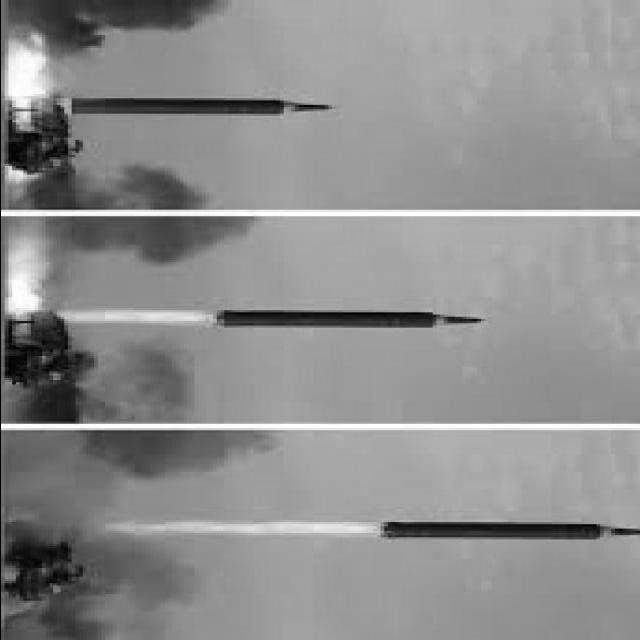Missile: (209, 301, 505, 335), (37, 91, 347, 123), (376, 517, 640, 544)
